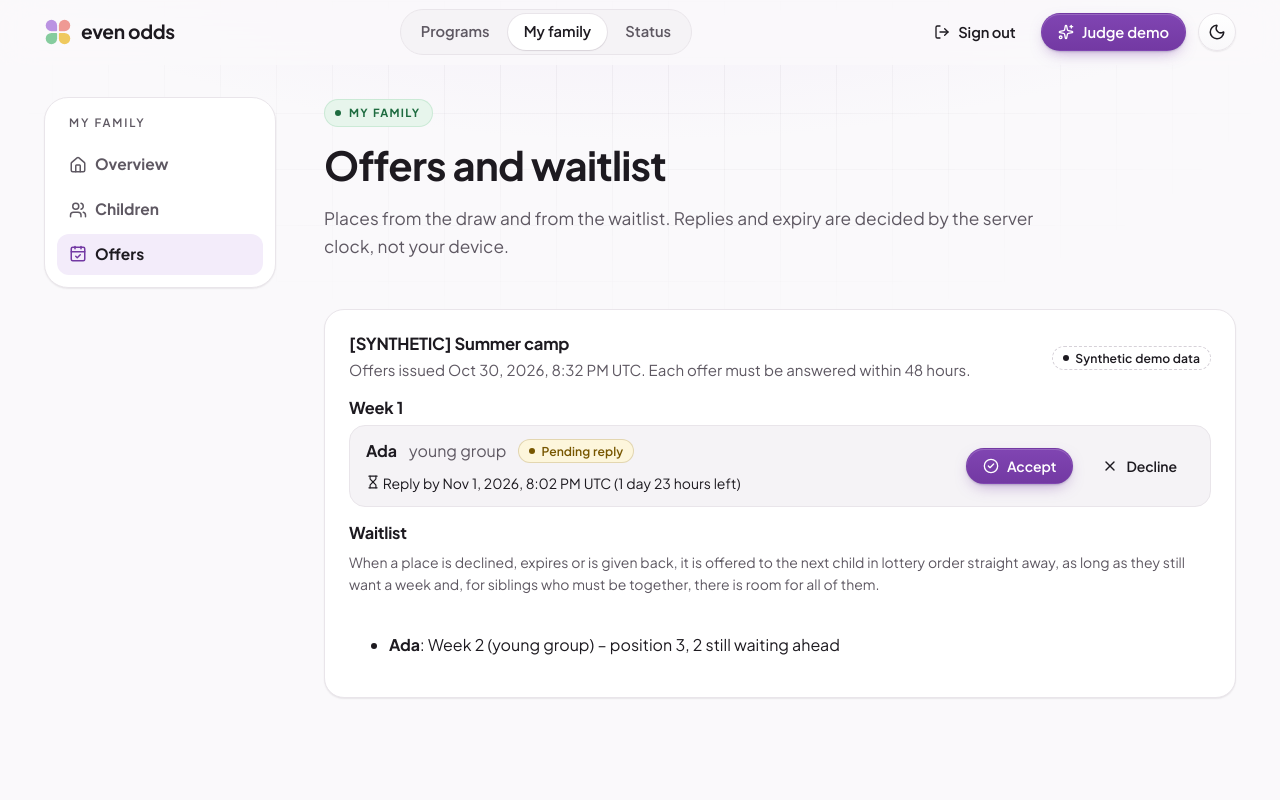
family offers page › shows the server-clock deadline and waitlist place, and retries a failed accept with the SAME key
This screenshot has width=1280, height=800.
Expected: the text "Reply by Nov 1, 2026, 8:02 PM UTC (1 day 23 hours left)" is shown, x1=366 y1=472 x2=741 y2=494
Expected: the list item "position 3, 2 still waiting ahead" is shown, x1=389 y1=634 x2=840 y2=655
What coordinates should you click on to do the following:
click the button "Accept"
I would click on:
 (1020, 466)
Its box is x1=966 y1=448 x2=1073 y2=484.
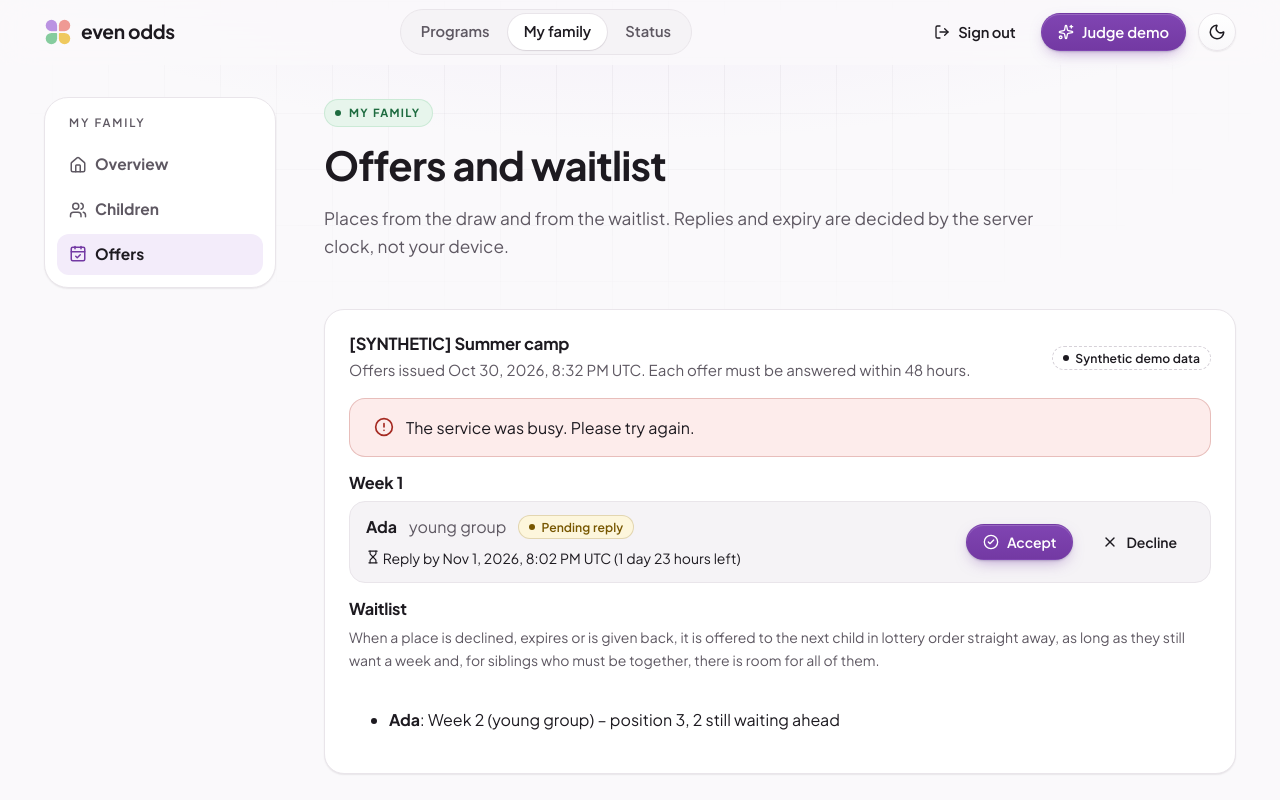
Expected: the text "The service was busy. Please try again." is shown, x1=406 y1=417 x2=694 y2=438
What coordinates should you click on to do the following:
click the button "Accept"
I would click on:
 (1020, 542)
Its box is x1=966 y1=524 x2=1073 y2=560.
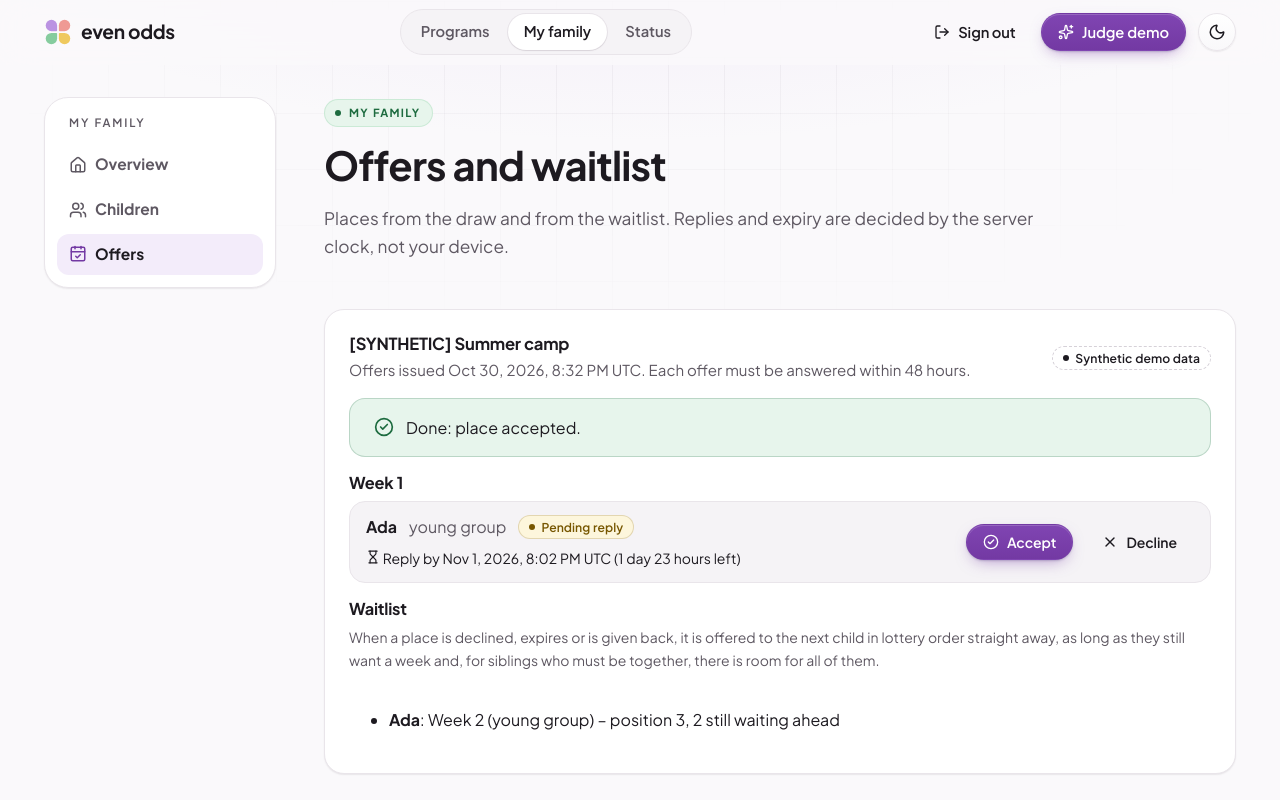
Expected: the text "Done: place accepted." is shown, x1=406 y1=417 x2=581 y2=438
